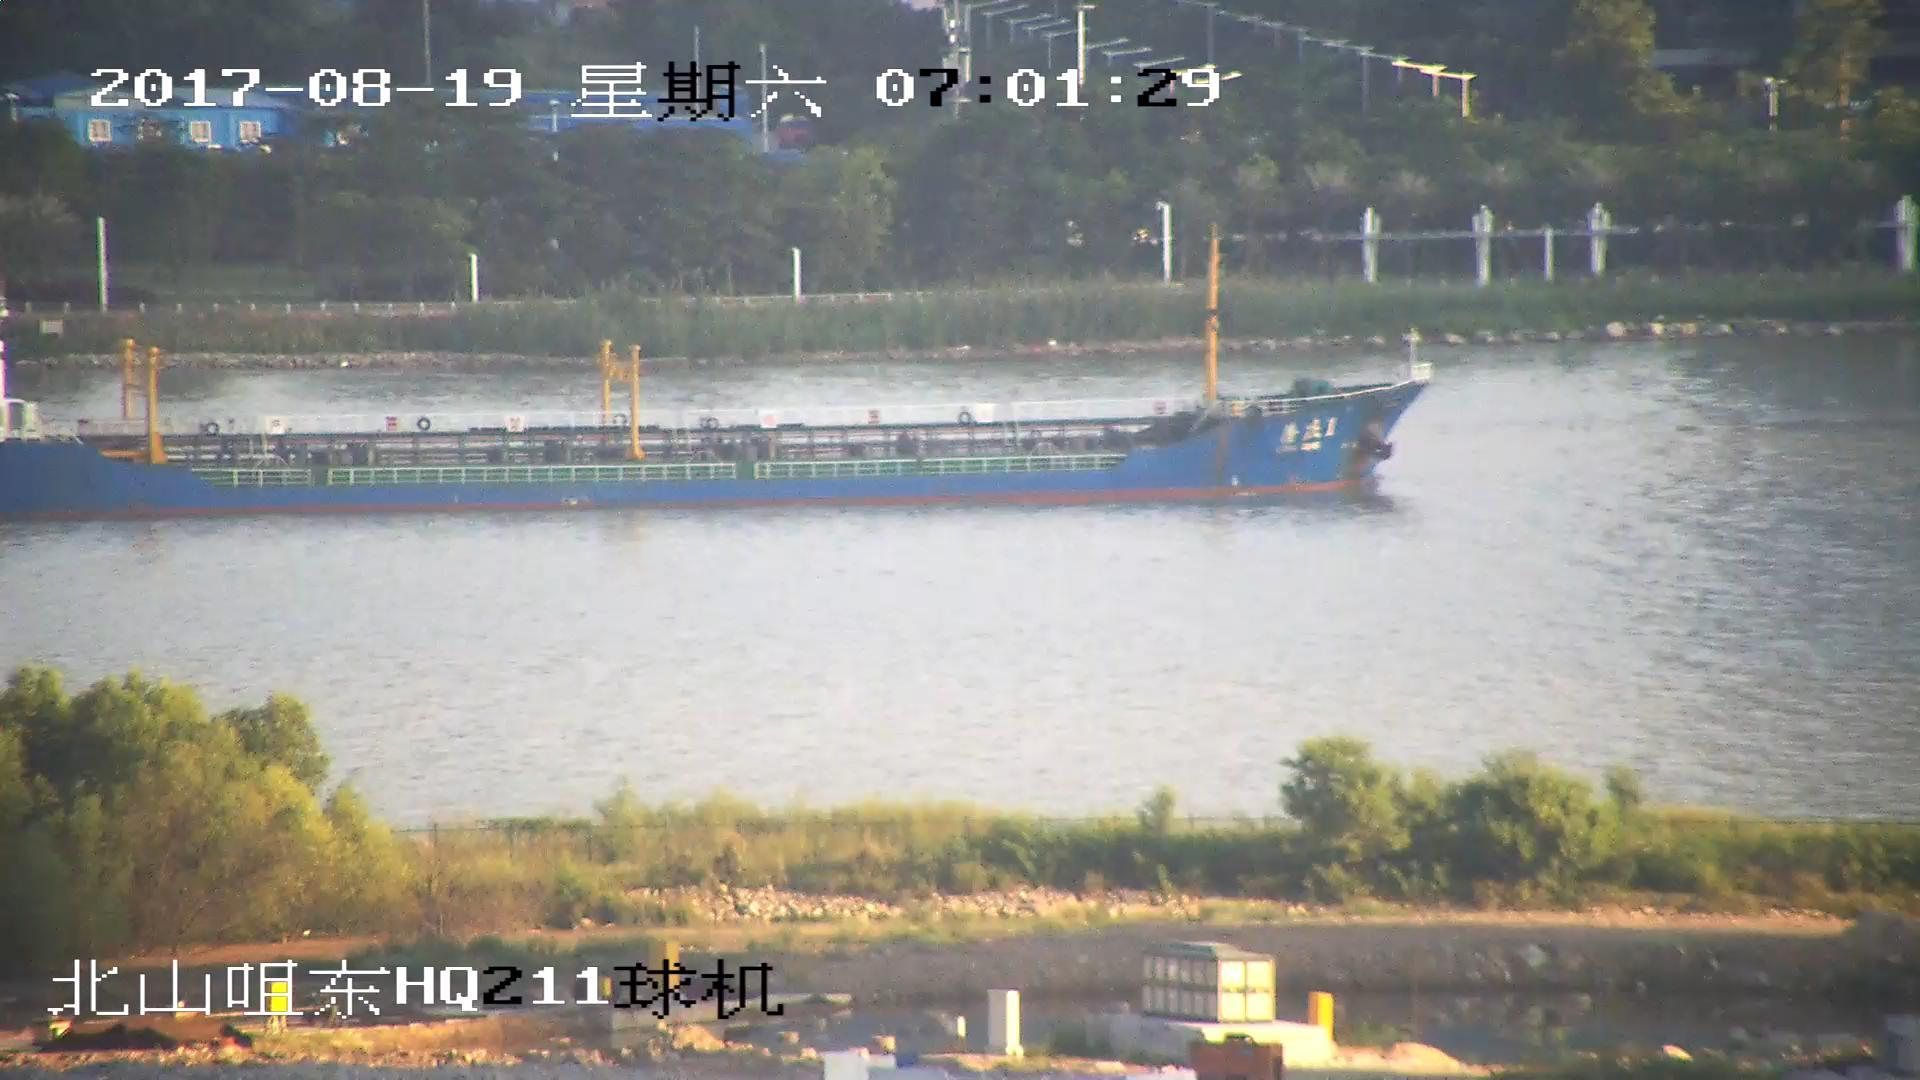Ship: (3, 235, 1429, 505)
